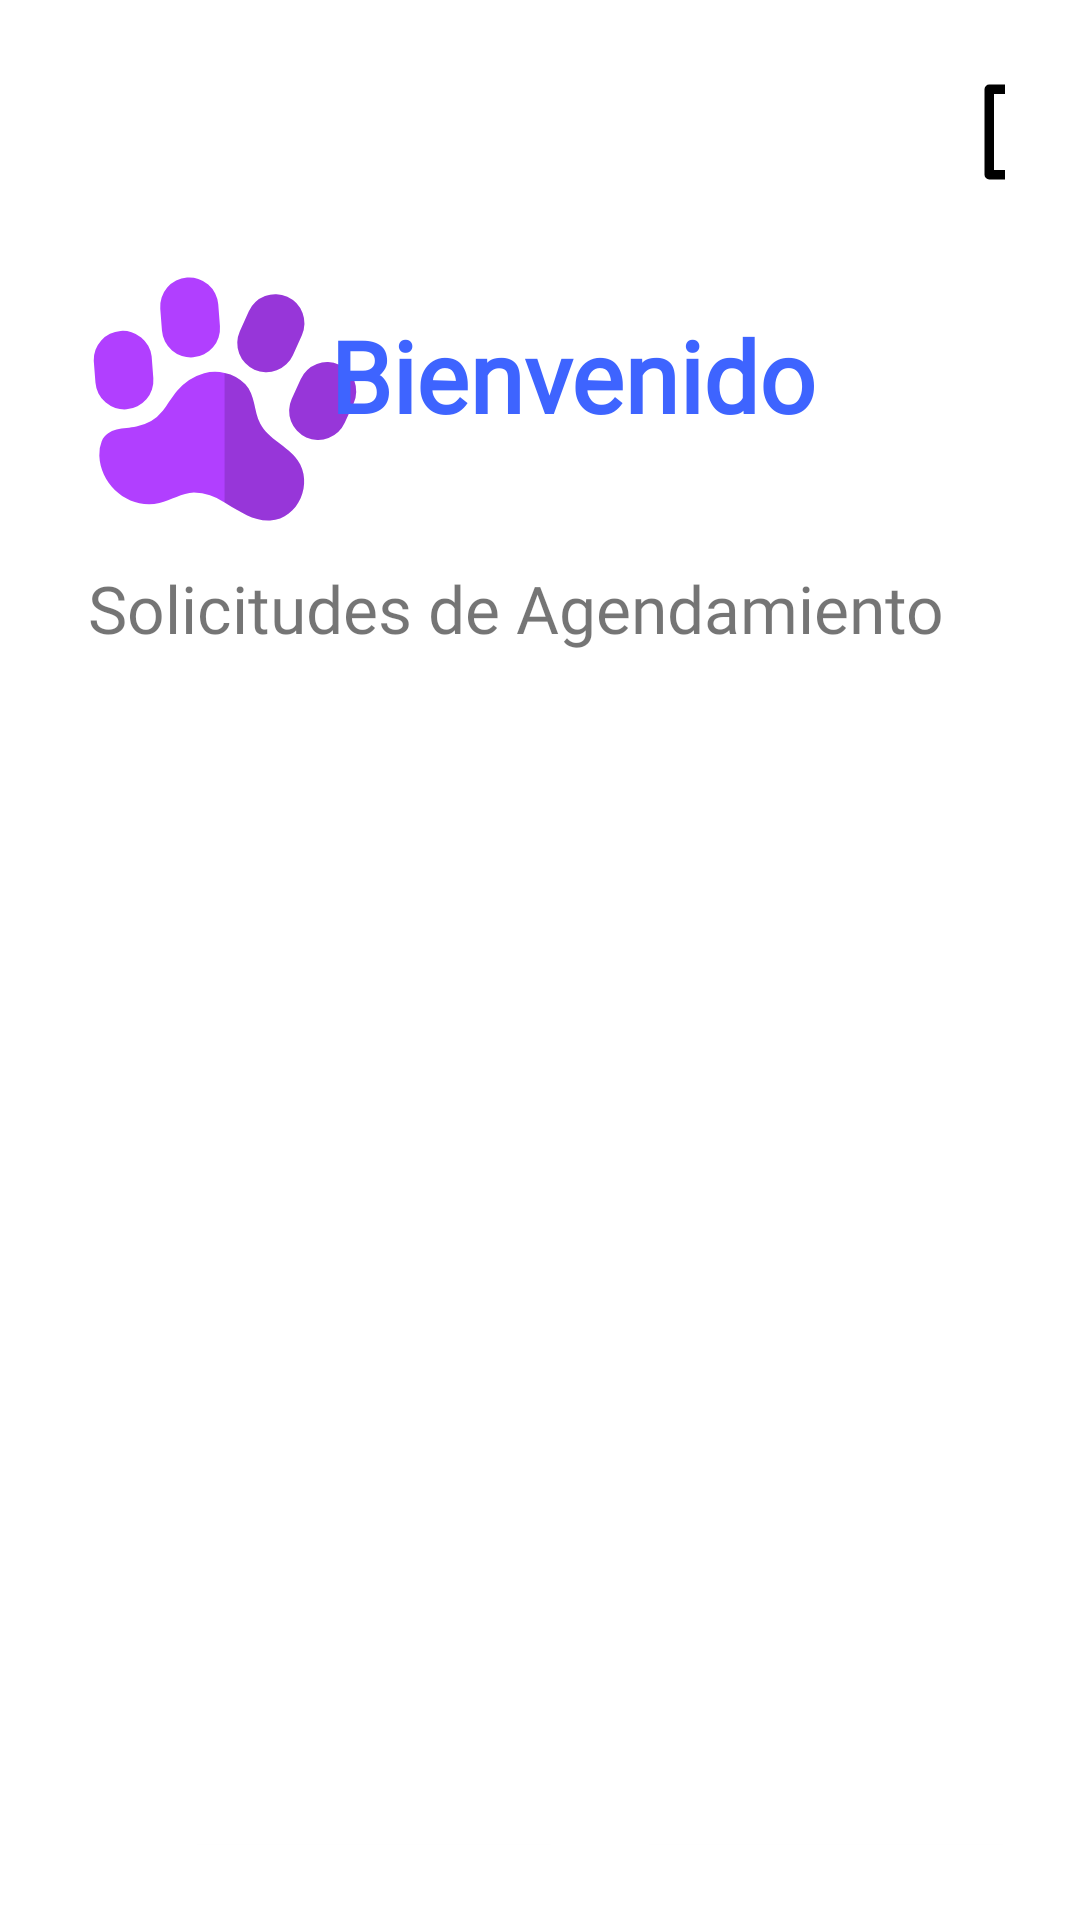

Locate icon controls on the screen. Image size 1080*1920, boxes as bbox=(x1, y1, x2, y2).
paw print animal: bbox=(93, 277, 305, 521)
